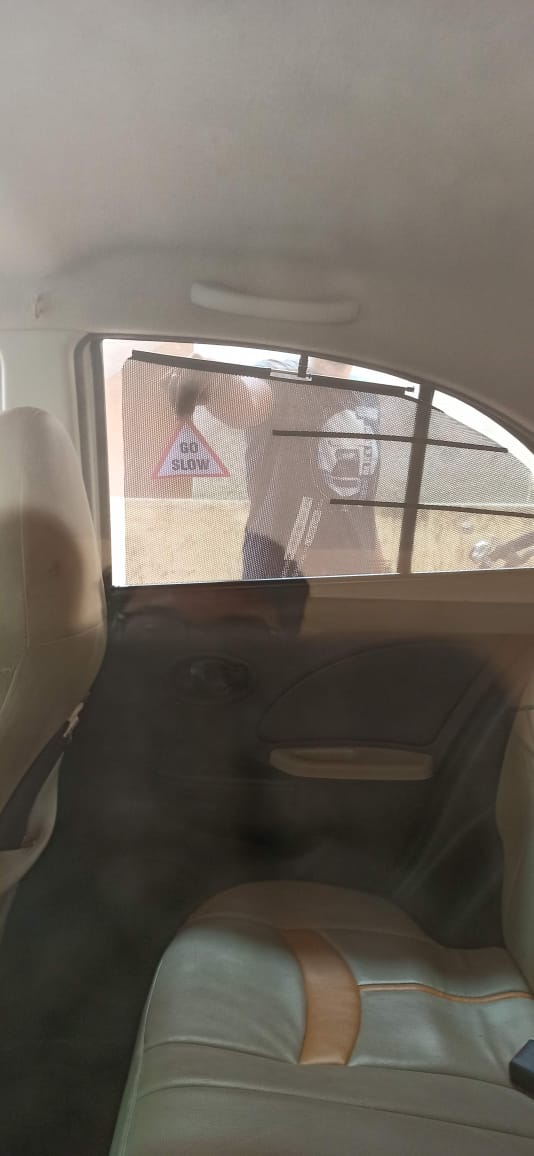GO SLOW: (144, 417, 255, 497)
